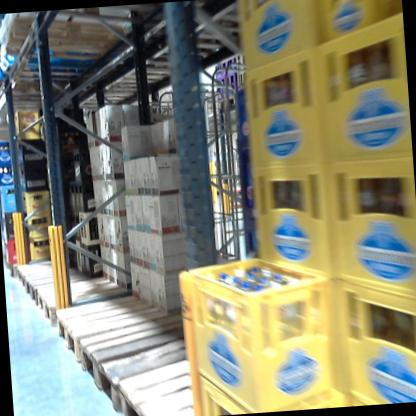pallet: (77, 304, 211, 416), (116, 339, 296, 416), (54, 279, 183, 374), (0, 7, 149, 75), (32, 269, 133, 338), (0, 71, 105, 112), (20, 267, 92, 309), (11, 253, 76, 290)
